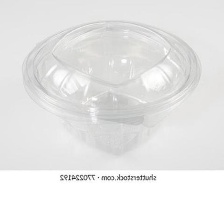plastic_box: (16, 13, 208, 161)
